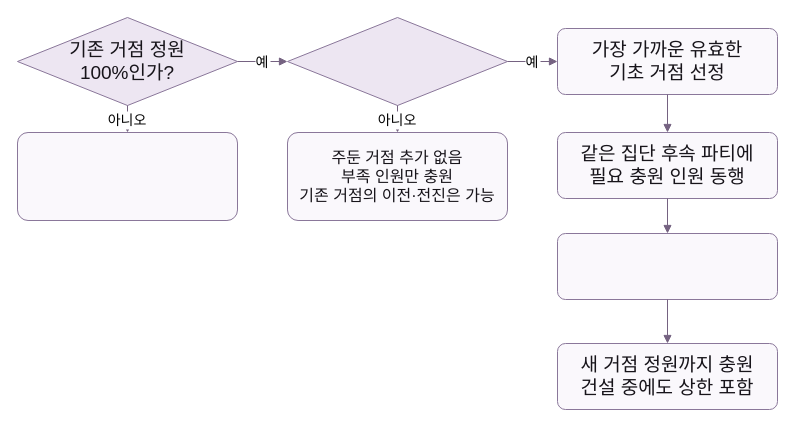
The diagram is 795 pixels wide and 427 high, and some of its shapes have lost their labels. Each missing label, with the box of its shape:
같은 집단(컨셉)의 파티에 거점 부족 인원만큼 동행 전방 부족분 먼저, 후방 다음: (16, 132, 238, 220)
주둔 거점 수 상한에 여유가 있는가?: (286, 16, 508, 106)
충원 인원이 방어 시설 건설·주둔: (556, 232, 778, 300)
